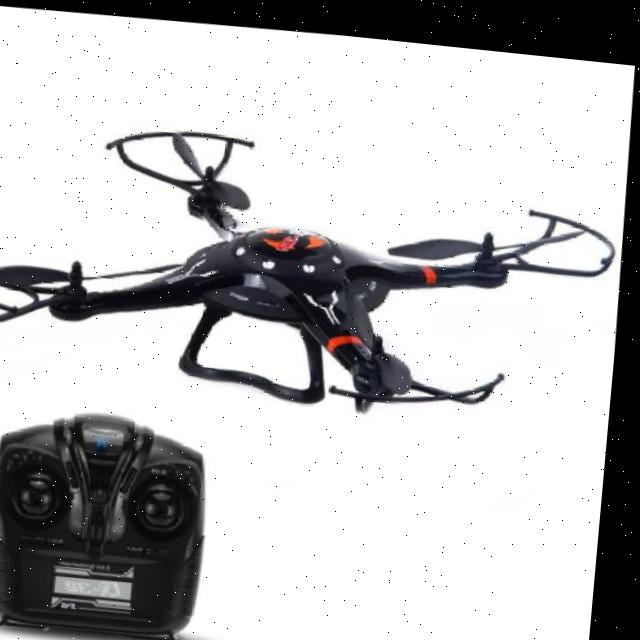drones: (0, 88, 634, 437)
